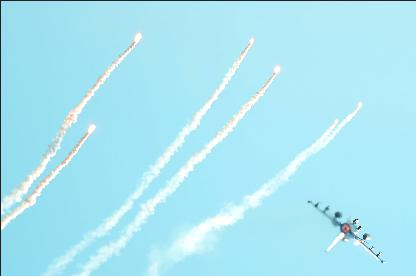F14: (306, 199, 385, 263)
